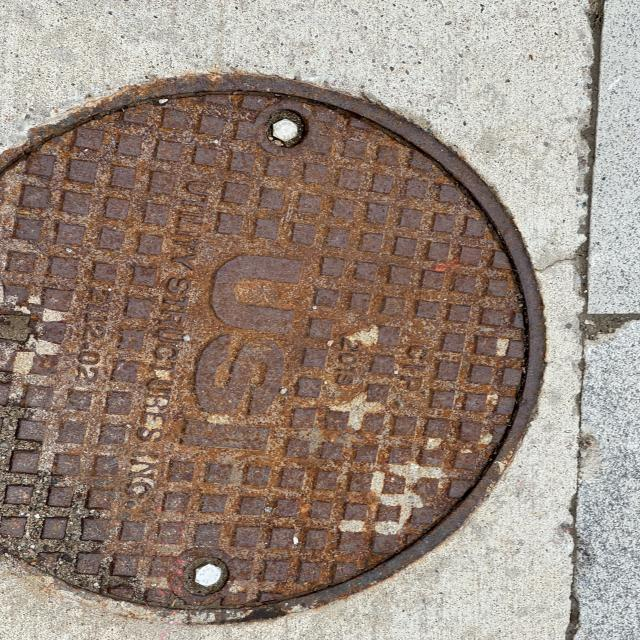Manhole: (1, 71, 549, 617)
